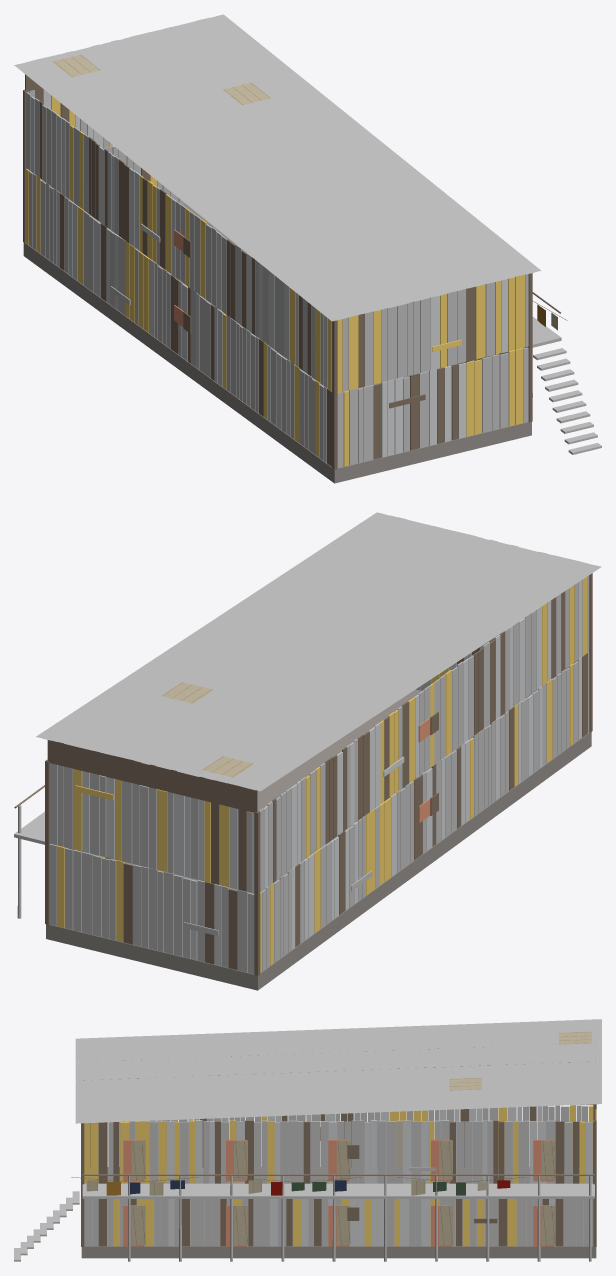
The model's file is SM_Art_Settlement_Shanty_5.gltf.
3 renders of one model, top to bottom at view 1: azimuth 30°, elevation 25°; view 2: azimuth 150°, elevation 25°; view 3: azimuth 270°, elevation 25°, orthographic. The views are drawn at different scales.
Visible parts, largest first — view 1: SM_Art_Settlement_Shanty_5; view 2: SM_Art_Settlement_Shanty_5; view 3: SM_Art_Settlement_Shanty_5.
Boxes of the visible parts, bbox=[...] form: SM_Art_Settlement_Shanty_5: bbox=[14, 14, 601, 483]; SM_Art_Settlement_Shanty_5: bbox=[14, 512, 601, 990]; SM_Art_Settlement_Shanty_5: bbox=[14, 1019, 601, 1261].
Size of the model in its own units: 9.6 by 7.45 by 25.25.
